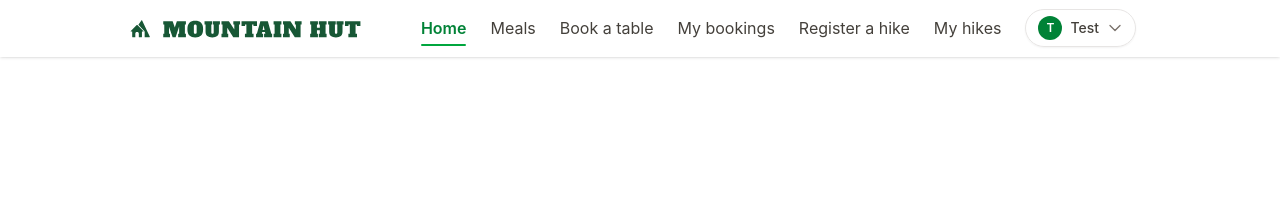
Test: Navbar › shows booking links and user menu to hikers, but not Manage slots, Hut Mail, Login or Register
The width and height of the screenshot is (1280, 219).
Expected: the link "Book a table" is shown, x1=560 y1=12 x2=653 y2=44
Expected: the link "My bookings" is shown, x1=678 y1=12 x2=775 y2=44
Click the button with aria-label "user menu" at (1081, 28), box x1=1025 y1=9 x2=1136 y2=47
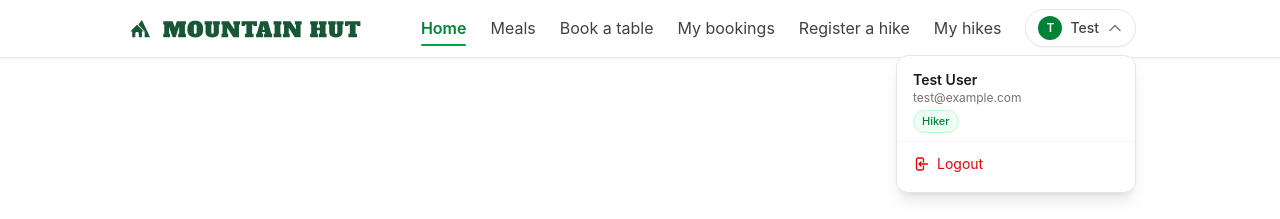
Expected: the menu item "Logout" is shown, x1=897 y1=146 x2=1135 y2=182
